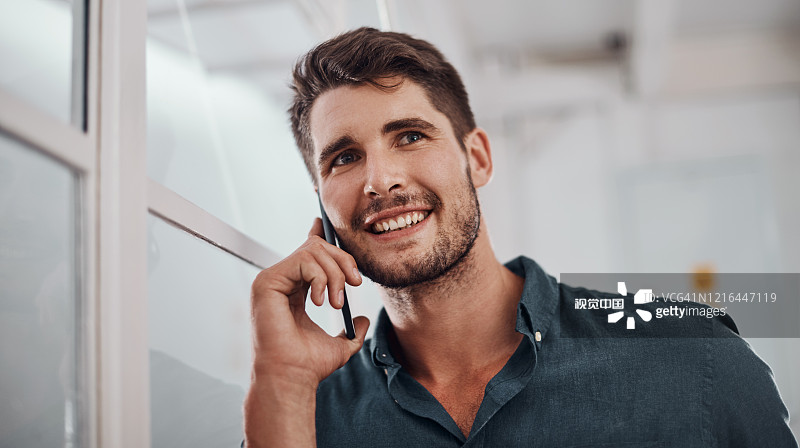calling: (233, 196, 387, 422)
